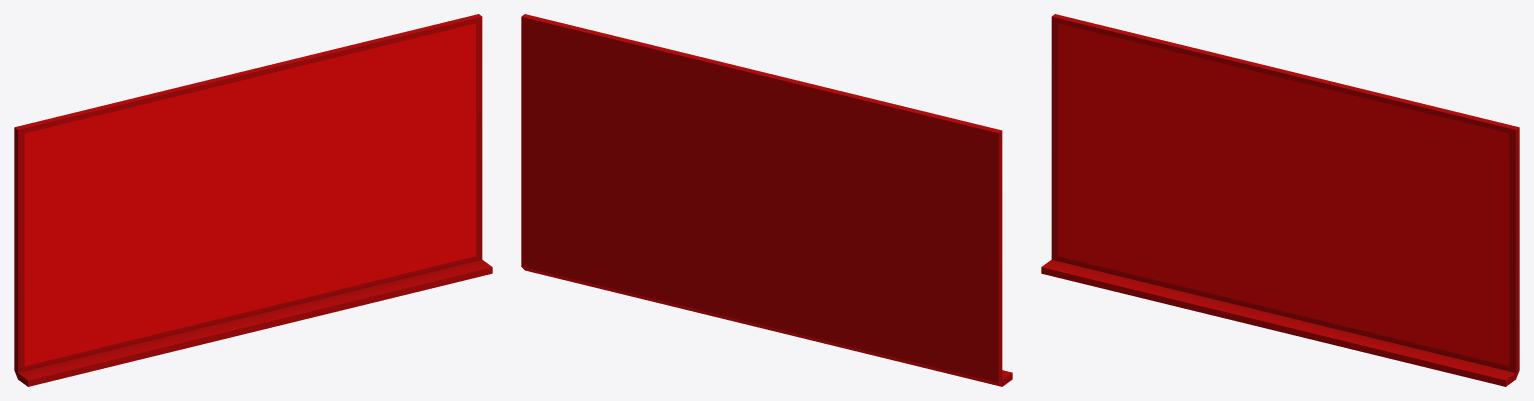
File: Whiteboard.glb
The picture shows the model from 3 angles, left to right: view 1: azimuth 30°, elevation 25°; view 2: azimuth 150°, elevation 25°; view 3: azimuth 330°, elevation 25°; orthographic projection. The views are drawn at different scales.
Parts seen in each view (by area): view 1: Whiteboard; view 2: Whiteboard; view 3: Whiteboard.
Part boxes in pixels (x1,y1,x2,y2): Whiteboard: [14, 14, 492, 386]; Whiteboard: [521, 14, 1012, 386]; Whiteboard: [1041, 14, 1519, 386].
Size of the model in its own units: 18 by 9.24 by 0.9258.
